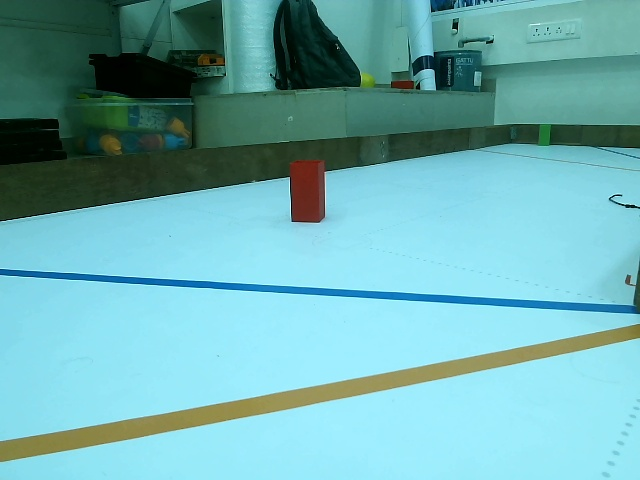red: (290, 160, 323, 222)
